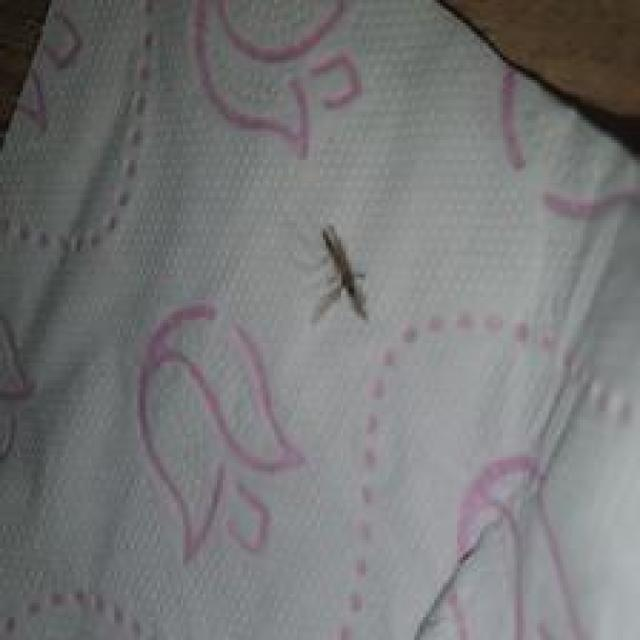Culex: (310, 223, 370, 323)
